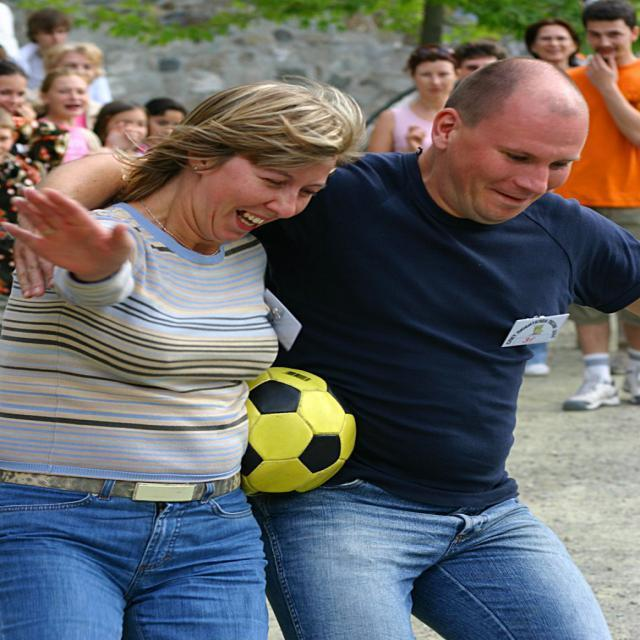football: (230, 356, 382, 499)
